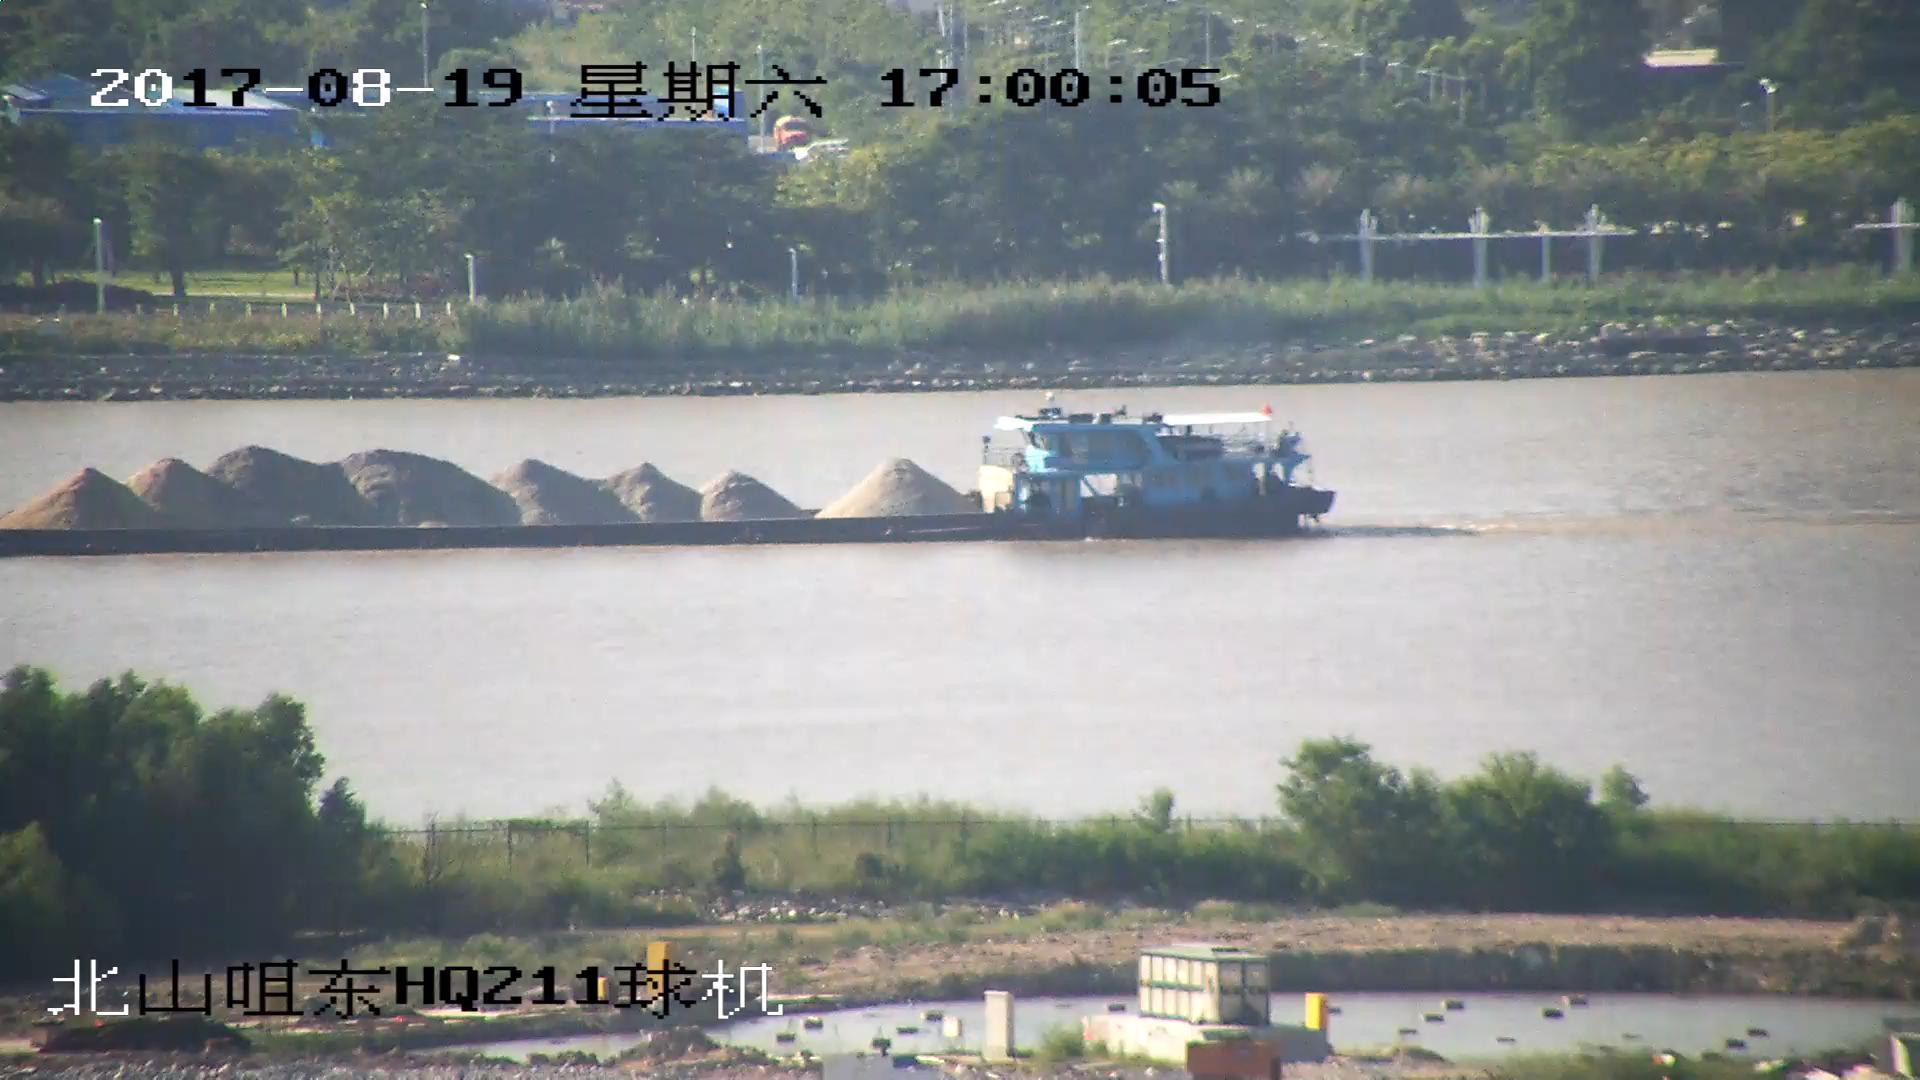Ship: (3, 388, 1338, 556)
